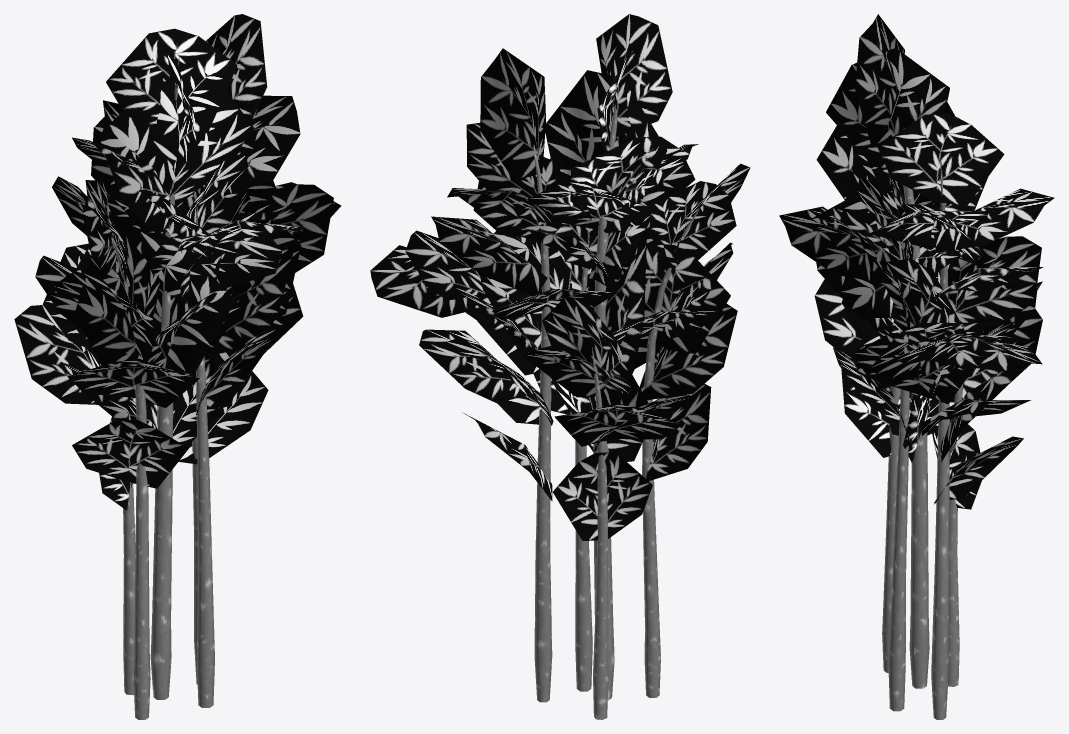
Rendered from P_BambooSaplingClump1.obj.
The picture shows the model from 3 angles, left to right: view 1: azimuth 30°, elevation 25°; view 2: azimuth 150°, elevation 25°; view 3: azimuth 270°, elevation 25°; orthographic projection. The views are drawn at different scales.
Bounding box in the file's own units: 5.4 × 11.38 × 4.28.
